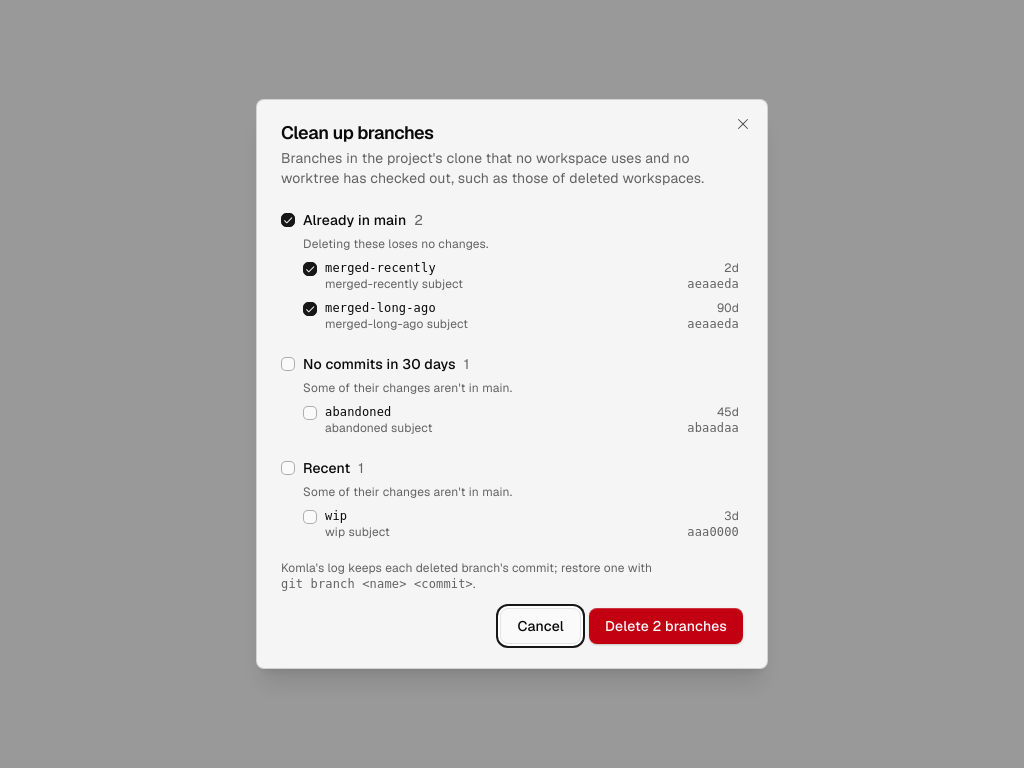
Scenario: BranchCleanupDialog › checks and unchecks a whole group from its header
Click the checkbox labelled "Already in main 2" at (288,220), box [281,213,295,227]
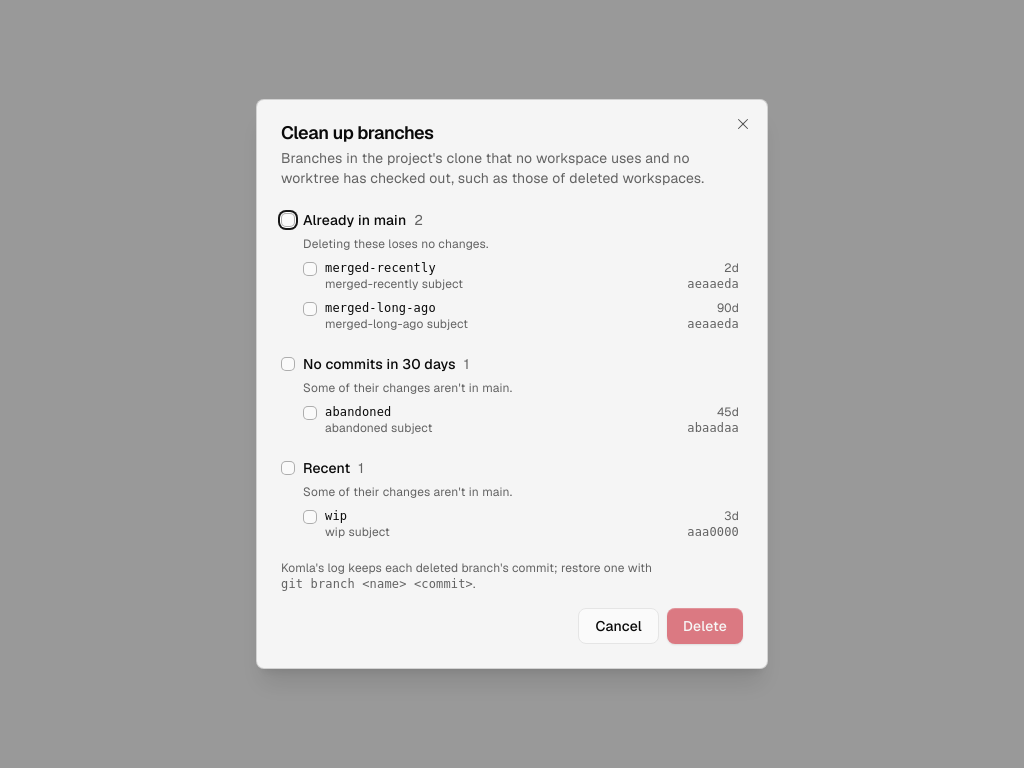
Expected: the button "Delete" is disabled, [667,608,743,644]
Click the checkbox labelled "Recent 1" at (288,468), box [281,461,295,475]
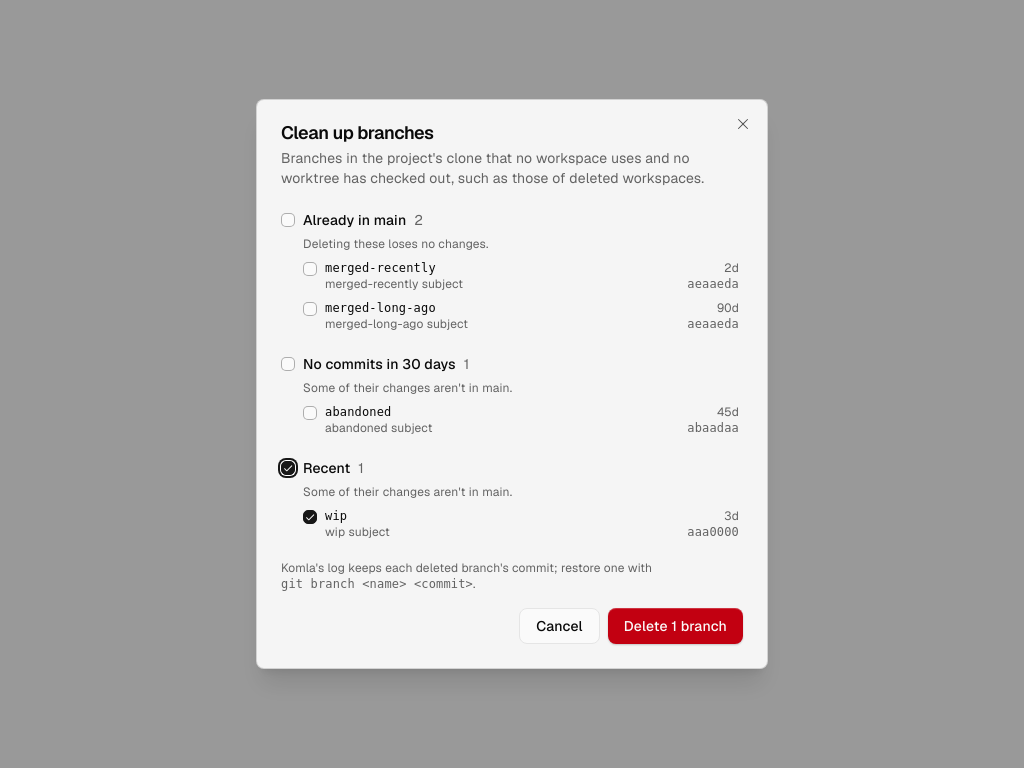
Expected: the checkbox labelled "wip wip subject 3d aaa0000" is checked, [303,510,317,524]
Expected: the button "Delete 1 branch" is enabled, [608,608,743,644]
